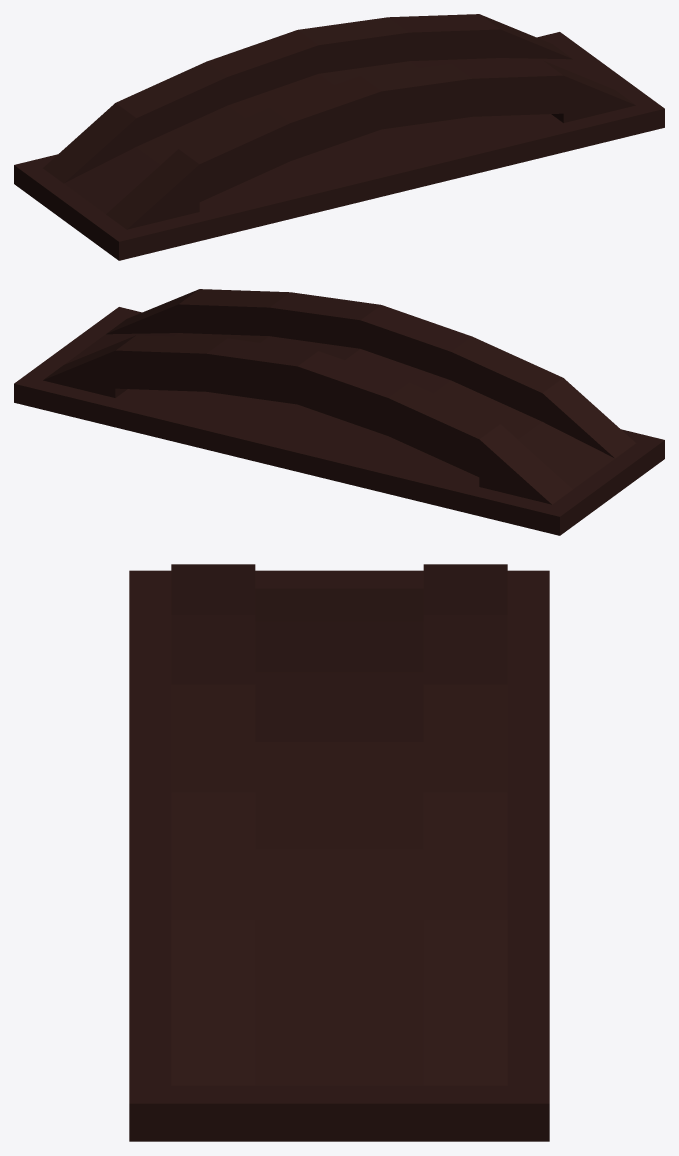
File: Bridge.glb
The picture shows the model from 3 angles, top to bottom: view 1: azimuth 30°, elevation 25°; view 2: azimuth 150°, elevation 25°; view 3: azimuth 270°, elevation 25°; orthographic projection. The views are drawn at different scales.
Parts seen in each view (by area): view 1: 3Bridge; view 2: 3Bridge; view 3: 3Bridge.
Boxes of the visible parts, <box> form: 3Bridge: <box>14,14,664,260</box>; 3Bridge: <box>14,289,664,535</box>; 3Bridge: <box>129,564,549,1141</box>.
Size of the model in its own units: 3 by 0.5 by 1.
